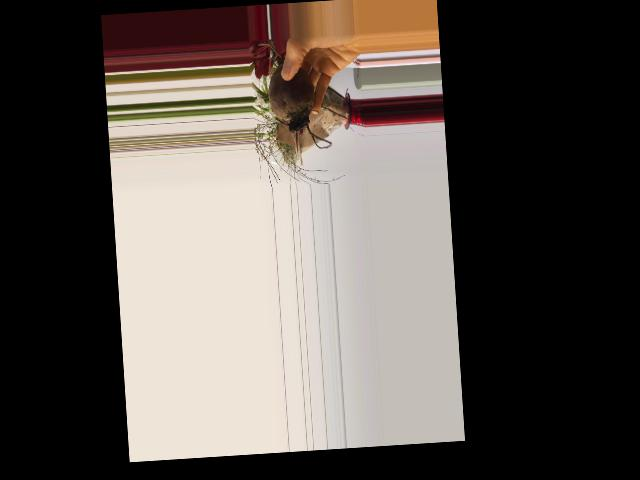beet: (258, 39, 332, 152)
